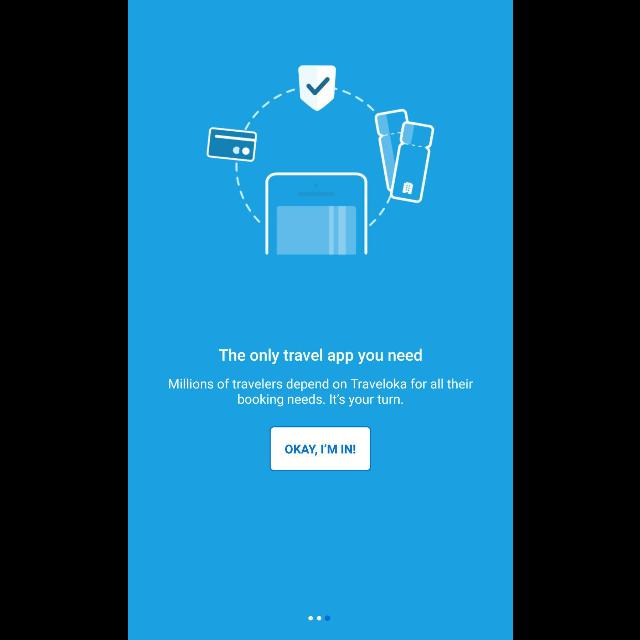image: (206, 66, 434, 254)
pageindicator: (308, 615, 330, 621)
text: (168, 378, 472, 408), (218, 349, 420, 365)
textbutton: (270, 426, 370, 472)
